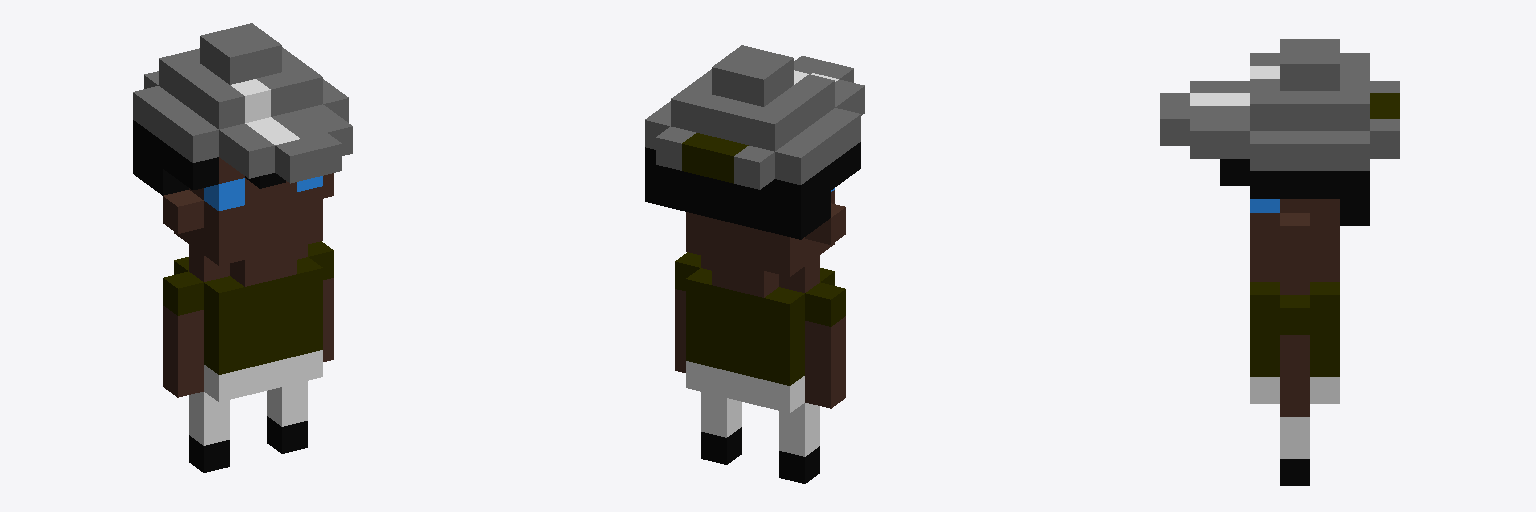
3 views of the same model, side by side, from view 1: azimuth 30°, elevation 25°; view 2: azimuth 150°, elevation 25°; view 3: azimuth 270°, elevation 25° (orthographic).
Visible parts, largest first — view 1: object 1; view 2: object 1; view 3: object 1.
Part boxes in pixels (bbox=[...]): object 1: bbox=[133, 23, 352, 472]; object 1: bbox=[645, 45, 864, 483]; object 1: bbox=[1160, 39, 1399, 485].
Size of the model in its own units: 0.6 by 1.5 by 0.8.
1 materials, 1 textured.